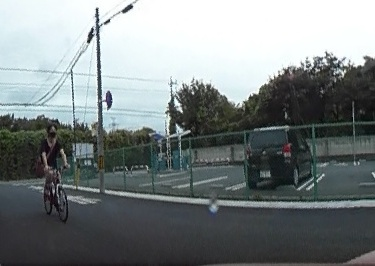person: (35, 123, 66, 196)
